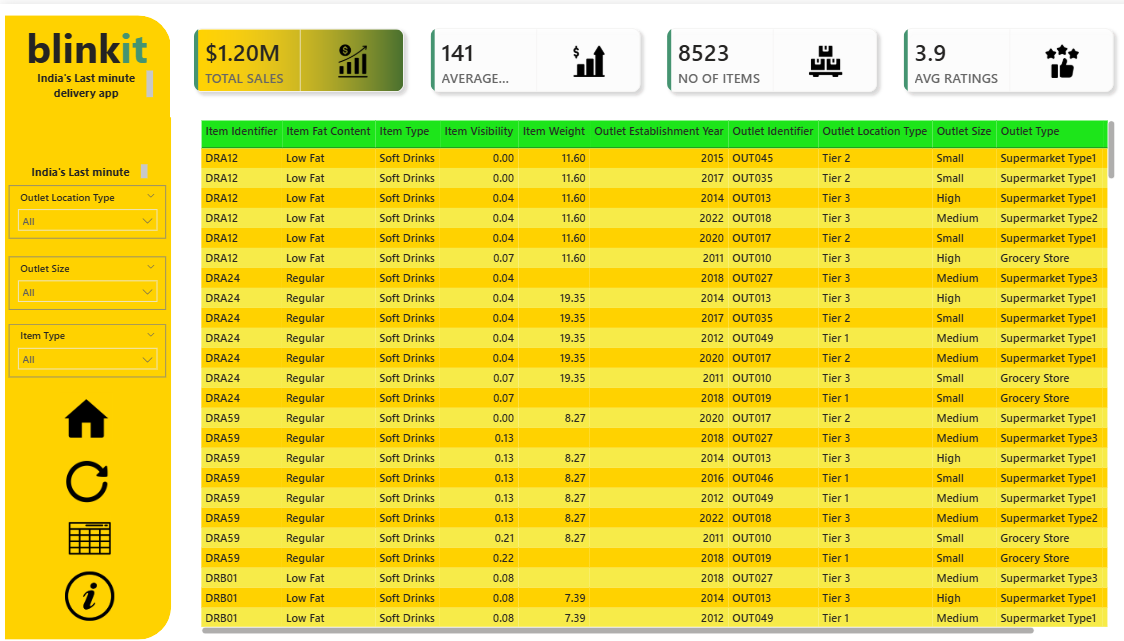

The page's visual inventory and layout, read from the dashboard file:
{"tool":"powerbi","page":{"name":"Duplicate of Page 1","canvas":[1400,800],"ordinal":1},"visuals":[{"type":"shape","box":[5.3,13.1,199.6,749.9],"z":0},{"type":"textbox","box":[19.7,13.1,169.4,74.9],"z":1000},{"type":"textbox","box":[27,75,162.1,43.5],"z":2000},{"type":"cardVisual","fields":{"Data":["BlinkIT Grocery Data.Total Sales","BlinkIT Grocery Data.Avg Sales","BlinkIT Grocery Data.No of Items","BlinkIT Grocery Data.Avg Rating"]},"box":[314.1,428.6,104.3,78.9],"z":3000},{"type":"slicer","fields":{"Values":["BlinkIT Grocery Data.Outlet Location Type"]},"box":[10.5,218,189.1,64.4],"z":4000},{"type":"slicer","fields":{"Values":["BlinkIT Grocery Data.Outlet Size"]},"box":[10.5,303.4,189.1,64.4],"z":5000},{"type":"slicer","fields":{"Values":["BlinkIT Grocery Data.Item Type"]},"box":[10.5,383.5,189.1,64.4],"z":6000},{"type":"textbox","box":[19.7,187.8,162.9,30.2],"z":7000},{"type":"actionButton","box":[72.6,467.3,63.3,61.4],"z":8000},{"type":"actionButton","box":[80.1,547.3,50.3,52.1],"z":9000},{"type":"actionButton","box":[81.9,614.4,50.3,55.9],"z":10000},{"type":"actionButton","box":[78.2,681.4,59.6,59.6],"z":11000},{"type":"cardVisual","fields":{"Data":["BlinkIT Grocery Data.Total Sales","BlinkIT Grocery Data.Avg Sales","BlinkIT Grocery Data.No of Rows","BlinkIT Grocery Data.Avg Rating"]},"box":[204.8,0,1163.6,135.9],"z":12000},{"type":"tableEx","fields":{"Values":["BlinkIT Grocery Data.Item Identifier","BlinkIT Grocery Data.Item Fat Content","BlinkIT Grocery Data.Item Type","BlinkIT Grocery Data.Item Visibility","BlinkIT Grocery Data.Item Weight","BlinkIT Grocery Data.Outlet Establishment Year","BlinkIT Grocery Data.Outlet Identifier","BlinkIT Grocery Data.Outlet Location Type","BlinkIT Grocery Data.Outlet Size","BlinkIT Grocery Data.Outlet Type","BlinkIT Grocery Data.Rating","BlinkIT Grocery Data.Sales"]},"box":[235.4,135.6,1108.5,626.7],"z":13000}]}

Visuals, with their boxes on the page's 1400x800 design canvas (x1, y1, x2, y2). These are canvas units, not pixel positions in the 1124x641 screenshot, which may show the page scaled, cropped or inside an application window:
shape: 5/13/205/763
textbox: 20/13/189/88
textbox: 27/75/189/118
cardVisual - BlinkIT Grocery Data.Total Sales x BlinkIT Grocery Data.Avg Sales: 314/429/418/508
slicer - BlinkIT Grocery Data.Outlet Location Type: 10/218/200/282
slicer - BlinkIT Grocery Data.Outlet Size: 10/303/200/368
slicer - BlinkIT Grocery Data.Item Type: 10/384/200/448
textbox: 20/188/183/218
actionButton: 73/467/136/529
actionButton: 80/547/130/599
actionButton: 82/614/132/670
actionButton: 78/681/138/741
cardVisual - BlinkIT Grocery Data.Total Sales x BlinkIT Grocery Data.Avg Sales: 205/0/1368/136
tableEx - BlinkIT Grocery Data.Item Identifier x BlinkIT Grocery Data.Item Fat Content: 235/136/1344/762
